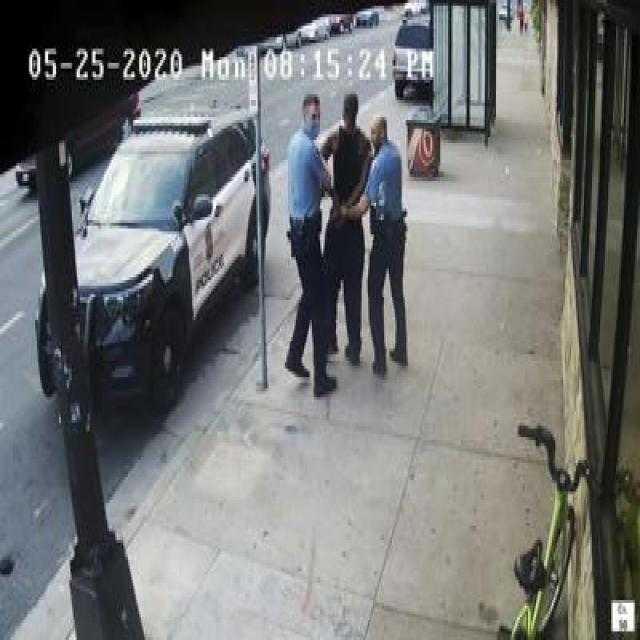police: (276, 86, 339, 402), (364, 108, 414, 377)
